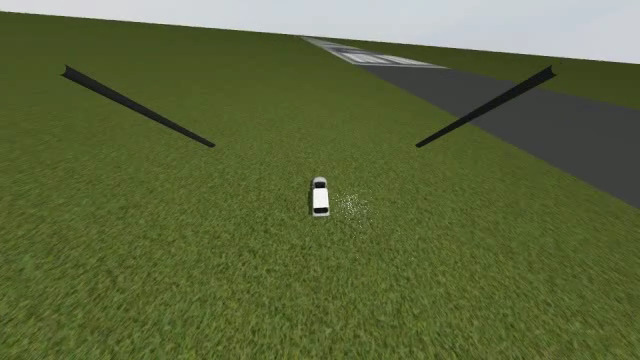Car: (309, 176, 330, 216)
